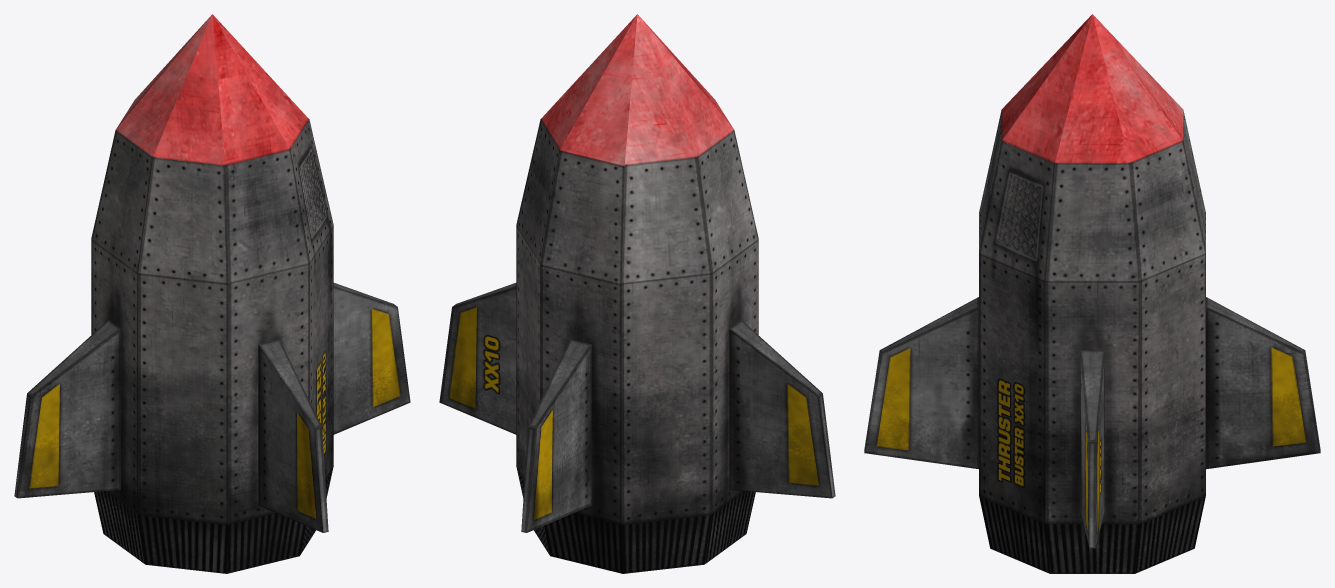
File: Rocket.FBX
3 views of the same model, side by side, from view 1: azimuth 30°, elevation 25°; view 2: azimuth 150°, elevation 25°; view 3: azimuth 270°, elevation 25° (orthographic).
Visible parts, largest first — view 1: Rocket; view 2: Rocket; view 3: Rocket.
Part boxes in pixels (box(x1,y1,x2,y2)): Rocket: box(14, 14, 410, 573); Rocket: box(439, 14, 835, 573); Rocket: box(864, 14, 1320, 573).
Bounding box in the file's own units: 0.1886 × 0.2355 × 0.1886.
